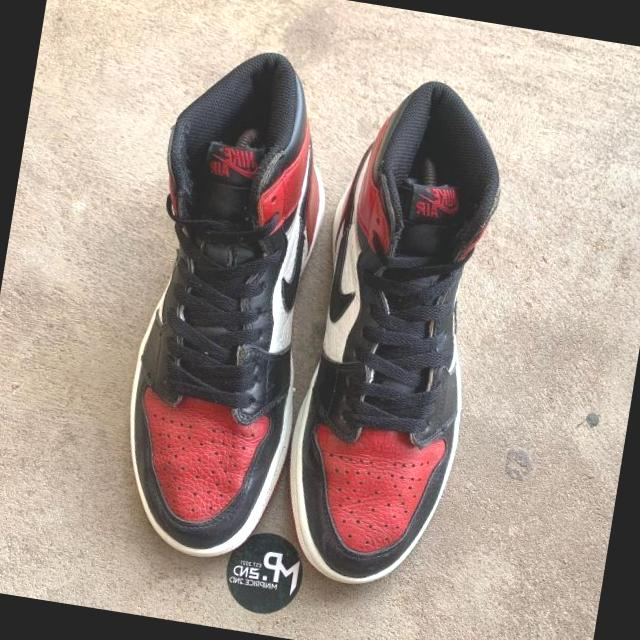nike_original_jordan: (98, 39, 352, 576), (270, 68, 517, 610)
